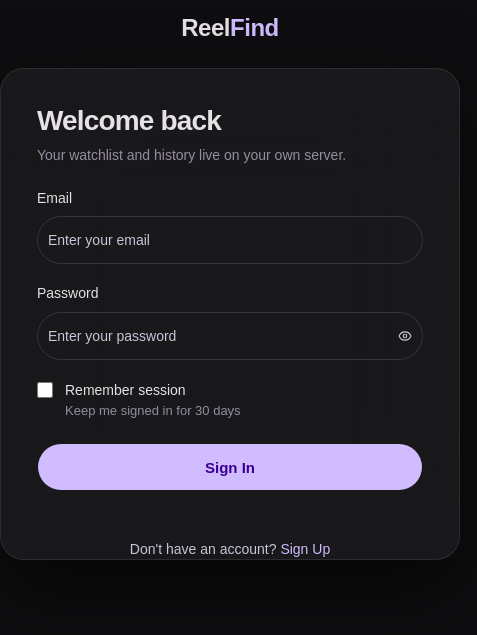
Test case: AuthForm (sign-in) › surfaces a rejected sign-in from the server
In the field labelled "Email": [230, 240] box [38,224,422,256], type "viewer@reelfind.test"
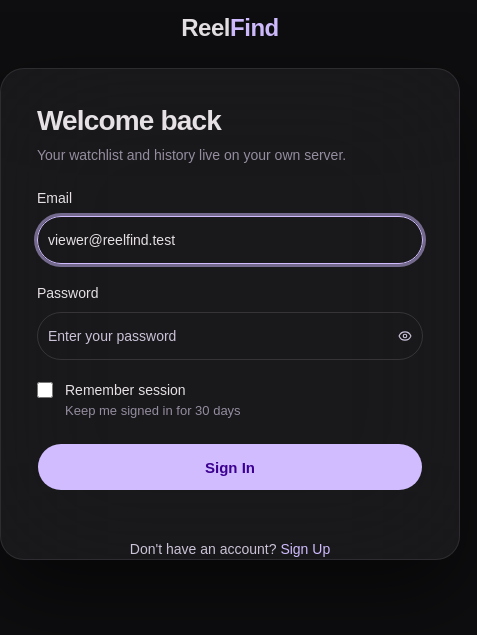
In the password field labelled "Password": [214, 336] box [38,320,391,352], type "hunter2"
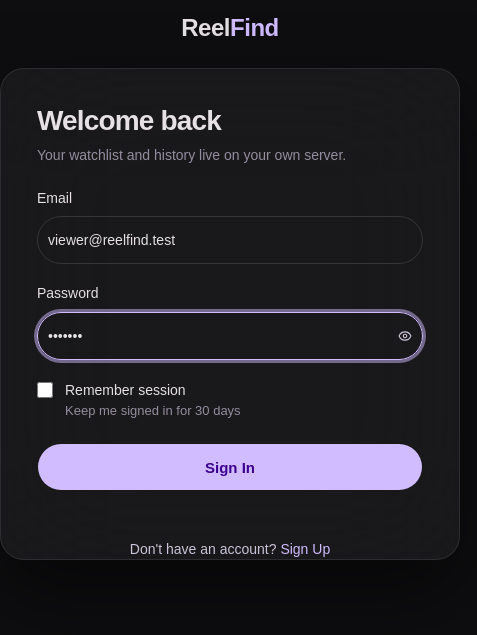
Click the button "Sign In": [230, 467] box [37,443,423,491]
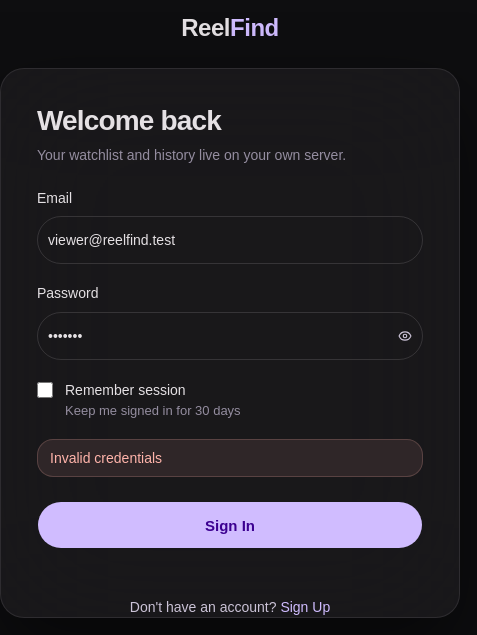
expect the message reads "Invalid credentials": met, box [50,450,162,466]
